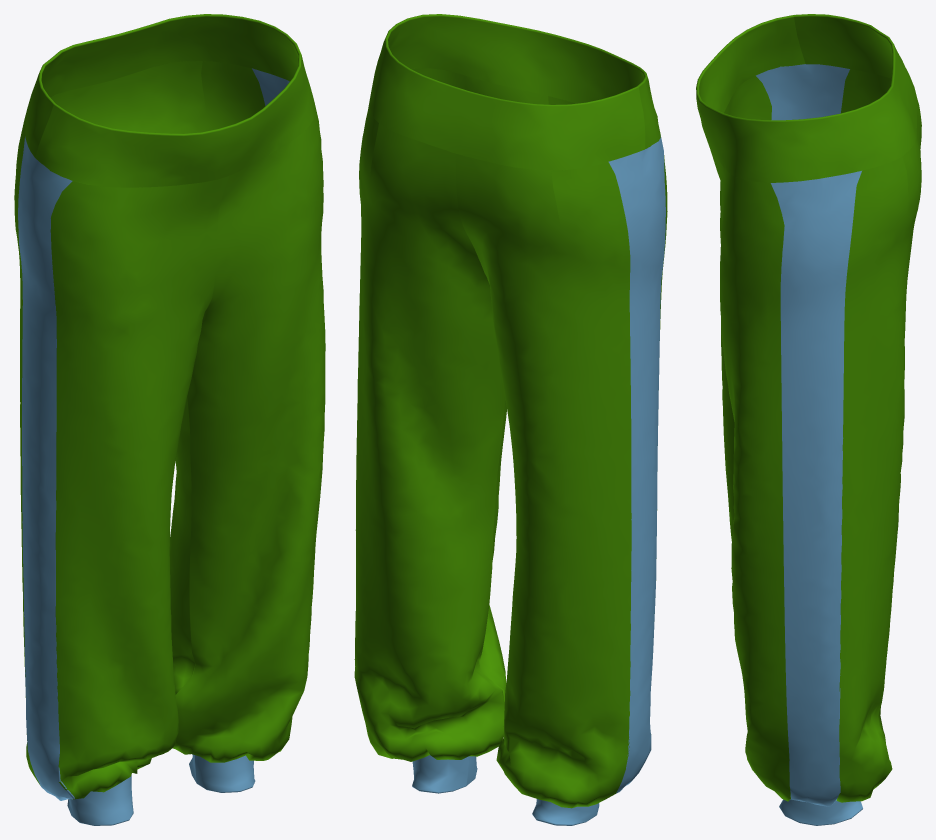
3 renders of one model, left to right at view 1: azimuth 30°, elevation 25°; view 2: azimuth 150°, elevation 25°; view 3: azimuth 270°, elevation 25°, orthographic. The views are drawn at different scales.
Parts seen in each view (by area): view 1: Pattern2D_4476826, Pattern2D_4640240, Pattern2D_4220494, Pattern2D_4640238, Pattern2D_4640241, Pattern2D_4555758, Pattern2D_4002359, Pattern2D_4640239, Pattern2D_4640242; view 2: Pattern2D_4555758, Pattern2D_4640241, Pattern2D_4220494, Pattern2D_4640238, Pattern2D_4640240, Pattern2D_4640239, Pattern2D_4002359; view 3: Pattern2D_4640242, Pattern2D_4640241, Pattern2D_4640240, Pattern2D_4220494, Pattern2D_4640238, Pattern2D_4476826, Pattern2D_4555758, Pattern2D_4640239.
Boxes of the visible parts, left/top/right/bottom form: Pattern2D_4476826: left=50, top=176, right=228, bottom=799; Pattern2D_4640240: left=173, top=105, right=325, bottom=762; Pattern2D_4220494: left=23, top=14, right=315, bottom=187; Pattern2D_4640238: left=18, top=136, right=74, bottom=800; Pattern2D_4640241: left=108, top=61, right=265, bottom=693; Pattern2D_4555758: left=14, top=80, right=112, bottom=785; Pattern2D_4002359: left=67, top=775, right=133, bottom=825; Pattern2D_4640239: left=189, top=754, right=255, bottom=792; Pattern2D_4640242: left=252, top=68, right=289, bottom=105; Pattern2D_4555758: left=455, top=154, right=631, bottom=808; Pattern2D_4640241: left=354, top=101, right=505, bottom=761; Pattern2D_4220494: left=369, top=14, right=660, bottom=170; Pattern2D_4640238: left=608, top=135, right=665, bottom=793; Pattern2D_4640240: left=411, top=68, right=548, bottom=740; Pattern2D_4640239: left=412, top=755, right=477, bottom=793; Pattern2D_4002359: left=532, top=799, right=599, bottom=825; Pattern2D_4640242: left=770, top=171, right=861, bottom=806; Pattern2D_4640241: left=836, top=121, right=921, bottom=802; Pattern2D_4640240: left=710, top=150, right=790, bottom=801; Pattern2D_4220494: left=696, top=14, right=917, bottom=182; Pattern2D_4640238: left=756, top=64, right=849, bottom=120; Pattern2D_4476826: left=720, top=76, right=771, bottom=540; Pattern2D_4555758: left=841, top=69, right=921, bottom=148; Pattern2D_4640239: left=779, top=799, right=862, bottom=825.
Bounding box in the file's own units: 40.86 × 103 × 29.18.
